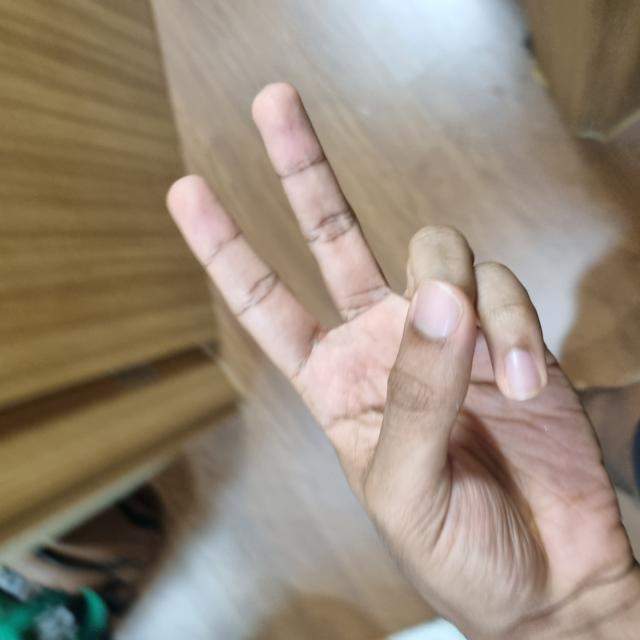Scissors: (5, 173, 543, 634)
